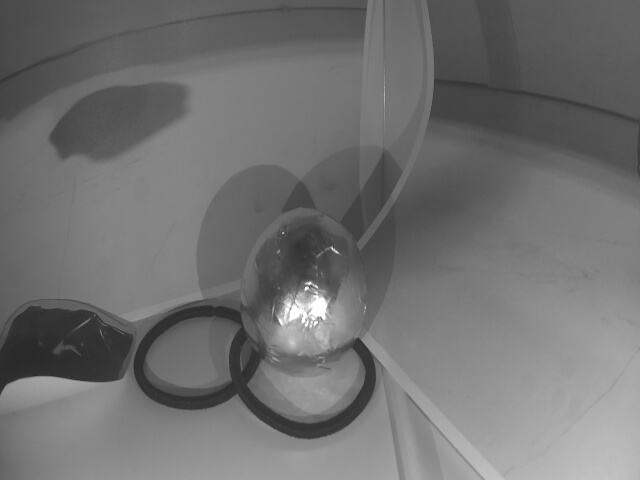Live: (241, 211, 367, 381)
